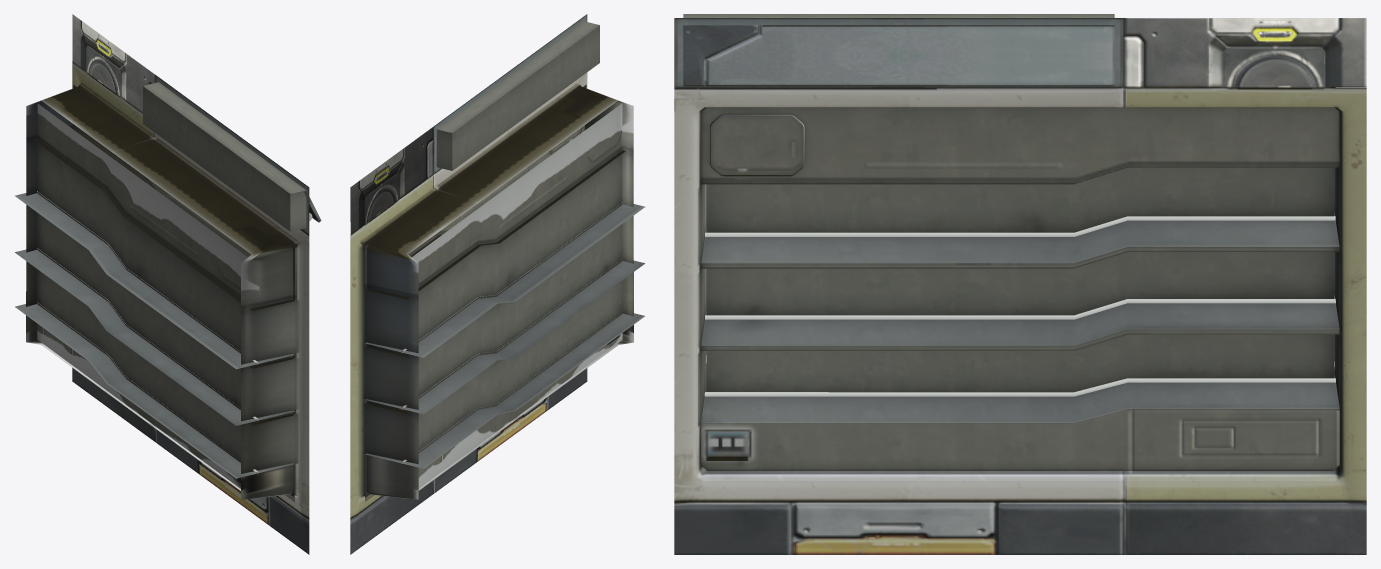
File: Pico_05_R.fbx
3 views of the same model, side by side, from view 1: azimuth 30°, elevation 25°; view 2: azimuth 150°, elevation 25°; view 3: azimuth 270°, elevation 25° (orthographic). The views are drawn at different scales.
Visible parts, largest first — view 1: guizi, dengdai; view 2: guizi; view 3: guizi, dengdai.
Boxes of the visible parts, x1=… form: guizi: x1=14, y1=14, x2=321, y2=554; dengdai: x1=37, y1=191, x2=258, y2=473; guizi: x1=350, y1=14, x2=645, y2=554; guizi: x1=674, y1=14, x2=1366, y2=554; dengdai: x1=704, y1=216, x2=1335, y2=396.
Bounding box in the file's own units: 77.6 × 336 × 393.
